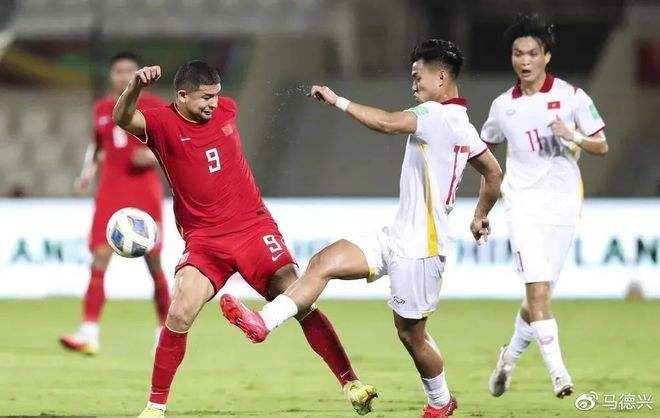football: (105, 205, 160, 258)
